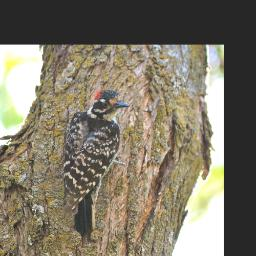Woodpecker: (68, 87, 129, 245)
